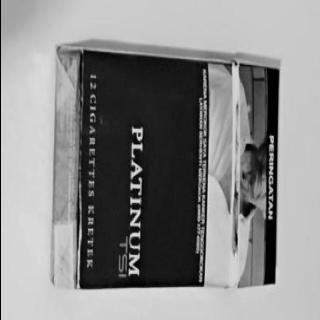objects: (51, 46, 279, 290)
